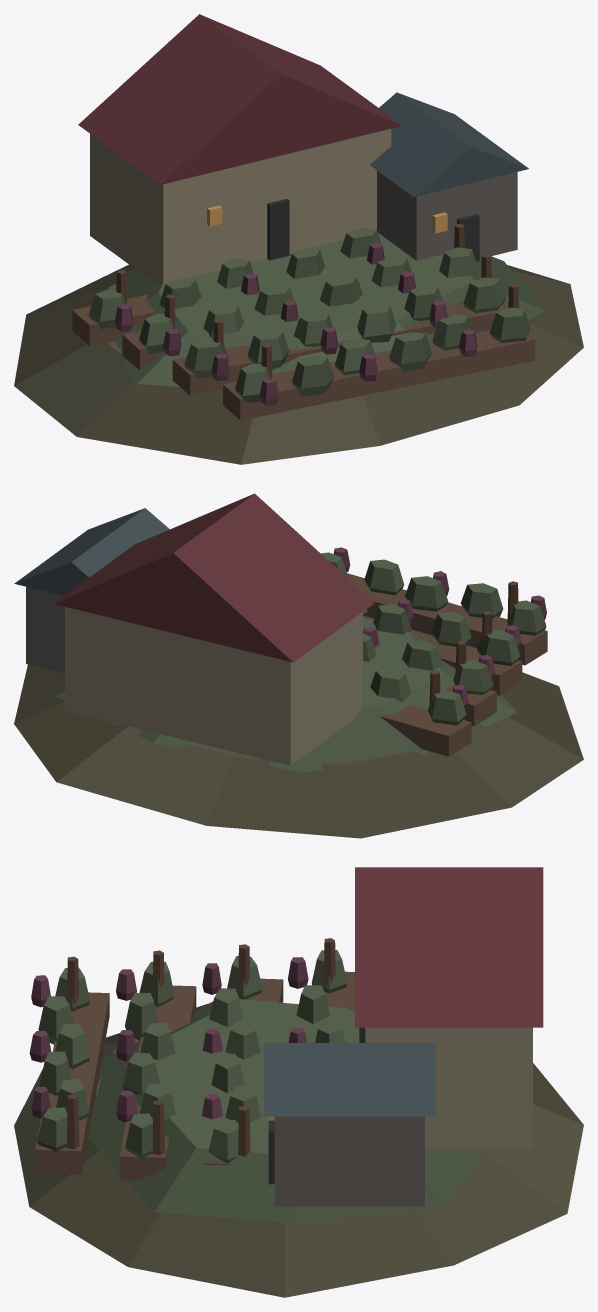
The model's file is winery.glb.
3 renders of one model, top to bottom at view 1: azimuth 30°, elevation 25°; view 2: azimuth 150°, elevation 25°; view 3: azimuth 270°, elevation 25°, orthographic. The views are drawn at different scales.
Parts seen in each view (by area): view 1: The Wizard of Wines · atlas landmark; view 2: The Wizard of Wines · atlas landmark; view 3: The Wizard of Wines · atlas landmark.
Boxes of the visible parts, x1,y1,x2,y2 form: The Wizard of Wines · atlas landmark: (14, 14, 583, 464); The Wizard of Wines · atlas landmark: (14, 493, 583, 838); The Wizard of Wines · atlas landmark: (14, 867, 583, 1297).
Size of the model in its own units: 2.03 by 0.9832 by 1.66.
